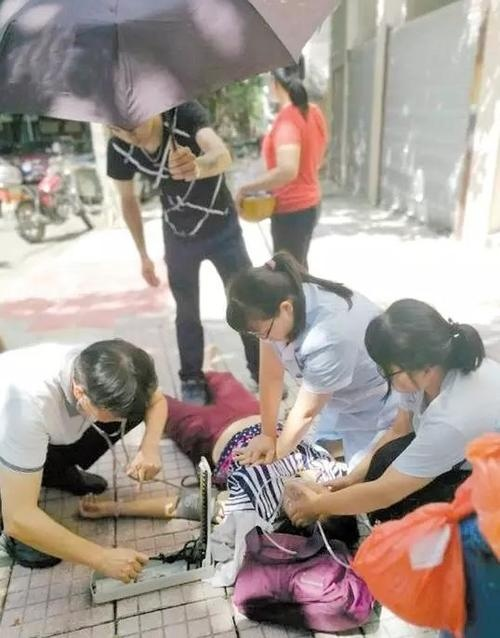falling: (114, 340, 386, 622)
